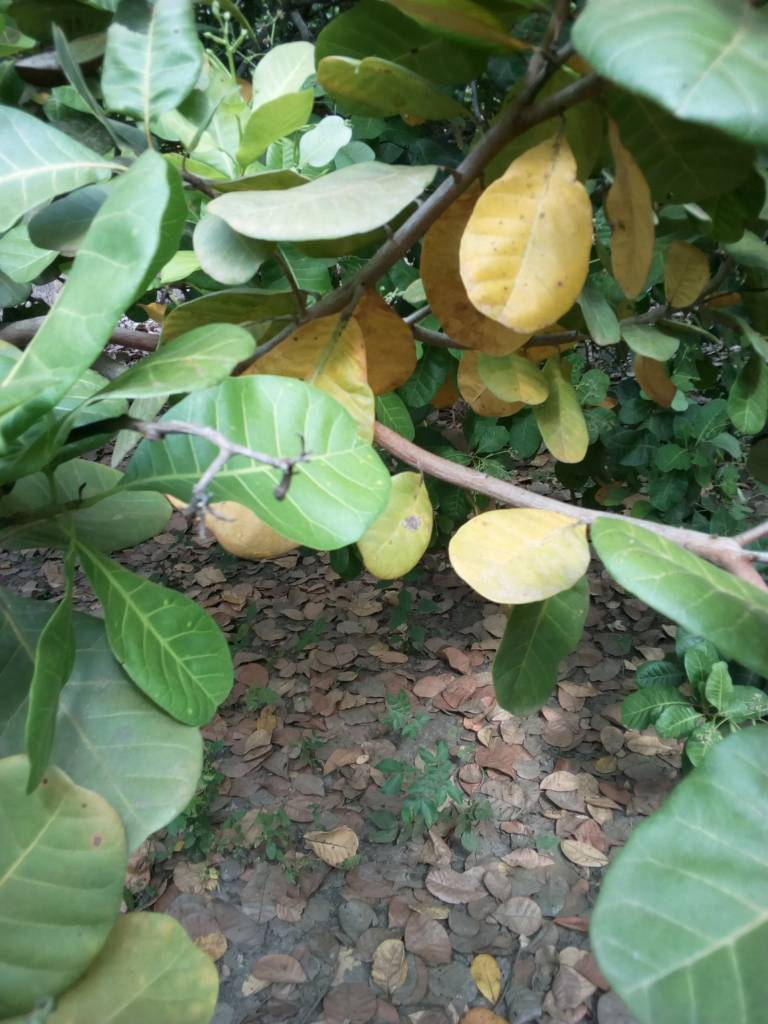Dessèchement des bourgeons: (177, 494, 207, 550), (275, 449, 302, 503)
